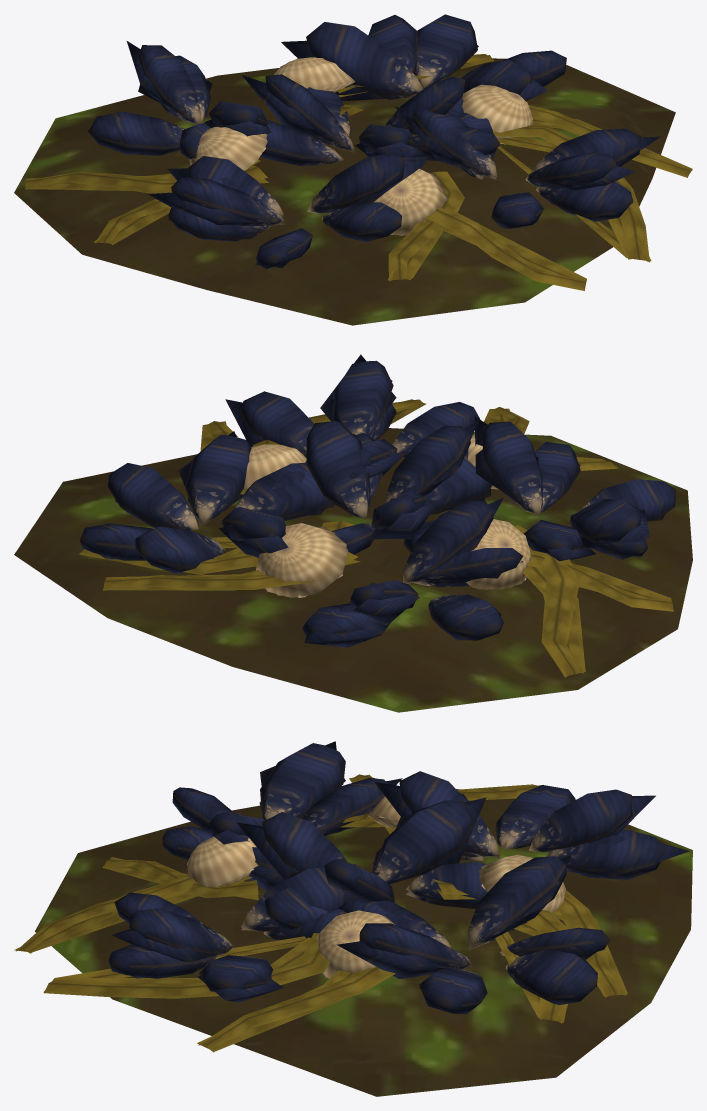
File: IO_Shellfish_A.glb
3 renders of one model, top to bottom at view 1: azimuth 30°, elevation 25°; view 2: azimuth 150°, elevation 25°; view 3: azimuth 270°, elevation 25°, orthographic. The views are drawn at different scales.
Parts seen in each view (by area): view 1: IO_Shellfish_A_LOD0, IO_Shellfish_A_LOD0_Group_02, IO_Shellfish_A_LOD0_Group_04, IO_Shellfish_A_LOD0_Group_01, IO_Shellfish_A_LOD0_Group_03, IO_Shellfish_A_LOD0_Group_05, IO_Shellfish_A_LOD1_Group_02, IO_Shellfish_A_LOD2_Group_04, IO_Shellfish_A_LOD2_Group_02, IO_Shellfish_A_LOD1_Group_04, IO_Shellfish_A_LOD2_Group_05, IO_Shellfish_A_LOD1_Group_03 (+3 smaller); view 2: IO_Shellfish_A_LOD0, IO_Shellfish_A_LOD0_Group_01, IO_Shellfish_A_LOD0_Group_03, IO_Shellfish_A_LOD0_Group_02, IO_Shellfish_A_LOD0_Group_05, IO_Shellfish_A_LOD0_Group_04, IO_Shellfish_A_LOD1_Group_03, IO_Shellfish_A_LOD2_Group_03, IO_Shellfish_A_LOD1_Group_02, IO_Shellfish_A_LOD2_Group_01, IO_Shellfish_A_LOD2_Group_02, IO_Shellfish_A_LOD2_Group_04 (+2 smaller); view 3: IO_Shellfish_A_LOD0, IO_Shellfish_A_LOD0_Group_01, IO_Shellfish_A_LOD0_Group_04, IO_Shellfish_A_LOD0_Group_02, IO_Shellfish_A_LOD0_Group_03, IO_Shellfish_A_LOD0_Group_05, IO_Shellfish_A_LOD2_Group_04, IO_Shellfish_A_LOD2_Group_01, IO_Shellfish_A_LOD1_Group_04, IO_Shellfish_A_LOD2_Group_05, IO_Shellfish_A_LOD1_Group_01, IO_Shellfish_A_LOD1_Group_02 (+4 smaller).
Part boxes in pixels (box(x1,y1,x2,y2)): IO_Shellfish_A_LOD0: box(14, 58, 675, 325); IO_Shellfish_A_LOD0_Group_02: box(25, 153, 586, 290); IO_Shellfish_A_LOD0_Group_04: box(388, 84, 649, 281); IO_Shellfish_A_LOD0_Group_01: box(274, 14, 691, 177); IO_Shellfish_A_LOD0_Group_03: box(88, 45, 268, 244); IO_Shellfish_A_LOD0_Group_05: box(260, 74, 500, 165); IO_Shellfish_A_LOD1_Group_02: box(25, 161, 586, 290); IO_Shellfish_A_LOD2_Group_04: box(394, 106, 660, 257); IO_Shellfish_A_LOD2_Group_02: box(148, 160, 574, 272); IO_Shellfish_A_LOD1_Group_04: box(387, 86, 651, 280); IO_Shellfish_A_LOD2_Group_05: box(241, 75, 427, 169); IO_Shellfish_A_LOD1_Group_03: box(88, 53, 267, 243); IO_Shellfish_A_LOD0: box(14, 428, 692, 712); IO_Shellfish_A_LOD0_Group_01: box(80, 421, 348, 597); IO_Shellfish_A_LOD0_Group_03: box(103, 500, 673, 644); IO_Shellfish_A_LOD0_Group_02: box(468, 407, 675, 677); IO_Shellfish_A_LOD0_Group_05: box(306, 421, 492, 554); IO_Shellfish_A_LOD0_Group_04: box(241, 360, 617, 489); IO_Shellfish_A_LOD1_Group_03: box(103, 512, 673, 630); IO_Shellfish_A_LOD2_Group_03: box(304, 497, 668, 647); IO_Shellfish_A_LOD1_Group_02: box(482, 408, 665, 676); IO_Shellfish_A_LOD2_Group_01: box(178, 431, 342, 597); IO_Shellfish_A_LOD2_Group_02: box(474, 409, 649, 561); IO_Shellfish_A_LOD2_Group_04: box(225, 354, 425, 478); IO_Shellfish_A_LOD0: box(35, 789, 692, 1096); IO_Shellfish_A_LOD0_Group_01: box(198, 854, 610, 1052); IO_Shellfish_A_LOD0_Group_04: box(44, 859, 395, 998); IO_Shellfish_A_LOD0_Group_02: box(16, 743, 541, 953); IO_Shellfish_A_LOD0_Group_03: box(354, 771, 665, 997); IO_Shellfish_A_LOD0_Group_05: box(250, 800, 487, 930); IO_Shellfish_A_LOD2_Group_04: box(56, 872, 379, 1002); IO_Shellfish_A_LOD2_Group_01: box(336, 855, 570, 1017); IO_Shellfish_A_LOD1_Group_04: box(43, 857, 363, 992); IO_Shellfish_A_LOD2_Group_05: box(236, 797, 486, 899); IO_Shellfish_A_LOD1_Group_01: box(197, 856, 609, 1051); IO_Shellfish_A_LOD1_Group_02: box(14, 778, 536, 952).
Size of what is drawn, in the model's own units: 0.4615 by 0.0771 by 0.4281.
1 material, 1 textured.
